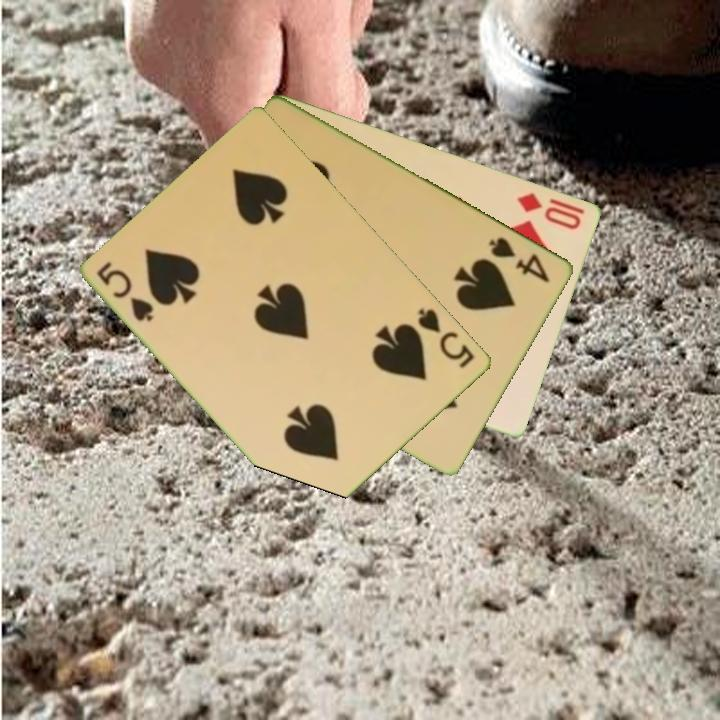10d: (513, 188, 588, 233)
4s: (486, 233, 554, 286)
5s: (94, 257, 158, 325), (415, 304, 478, 372)
